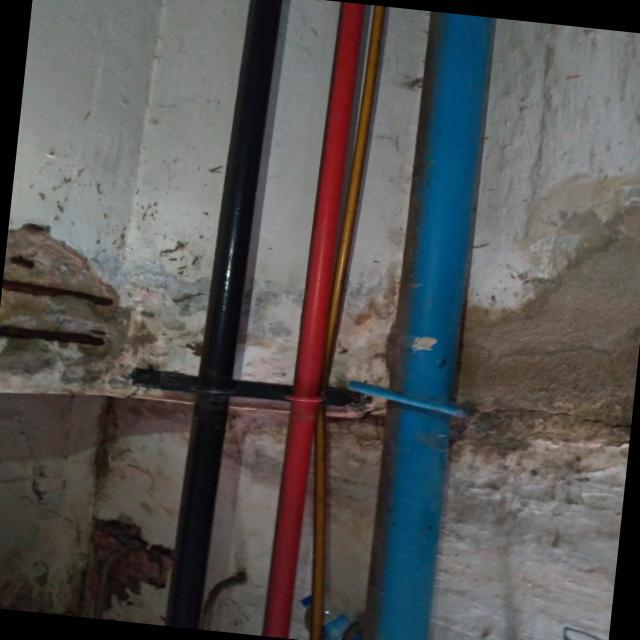gas: (357, 9, 499, 640), (159, 0, 286, 631), (260, 0, 371, 640)
